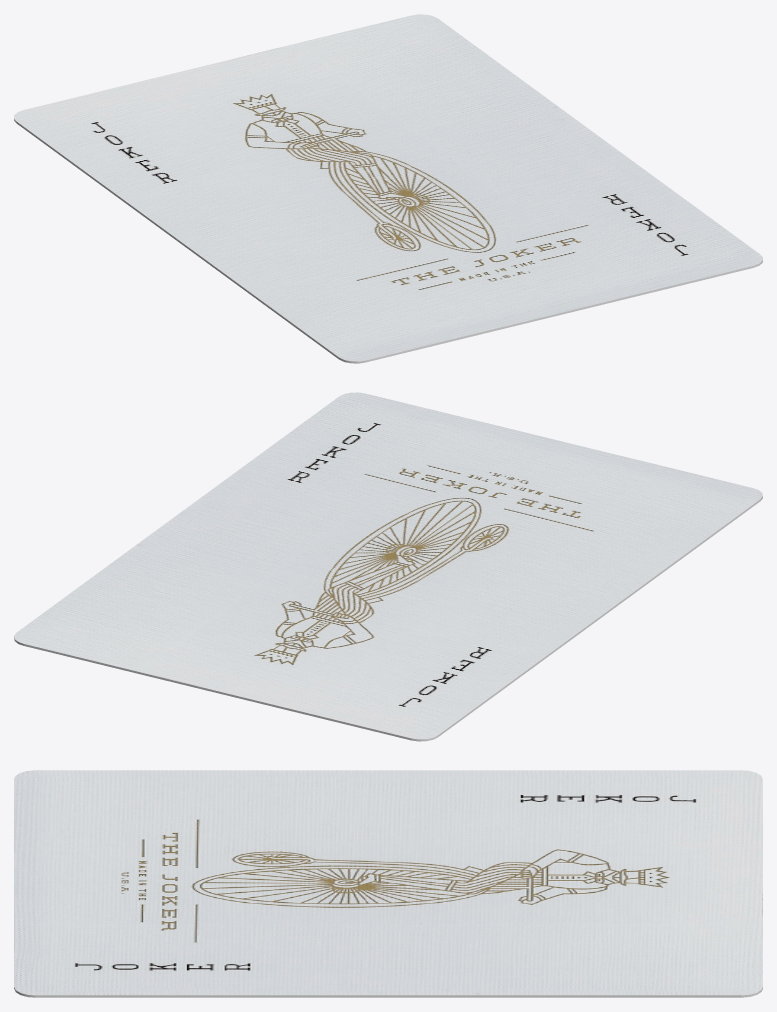
Rendered from joker.fbx.
3 renders of one model, top to bottom at view 1: azimuth 30°, elevation 25°; view 2: azimuth 150°, elevation 25°; view 3: azimuth 270°, elevation 25°, orthographic. The views are drawn at different scales.
Visible parts, largest first — view 1: Joker1_2; view 2: Joker1_2; view 3: Joker1_2.
Part boxes in pixels (left/top/right/bottom): Joker1_2: left=14, top=14, right=762, bottom=363; Joker1_2: left=14, top=392, right=762, bottom=741; Joker1_2: left=14, top=770, right=762, bottom=997.
Bounding box in the file's own units: 6.26 × 8.8 × 0.029.
3 materials, 2 textured.
